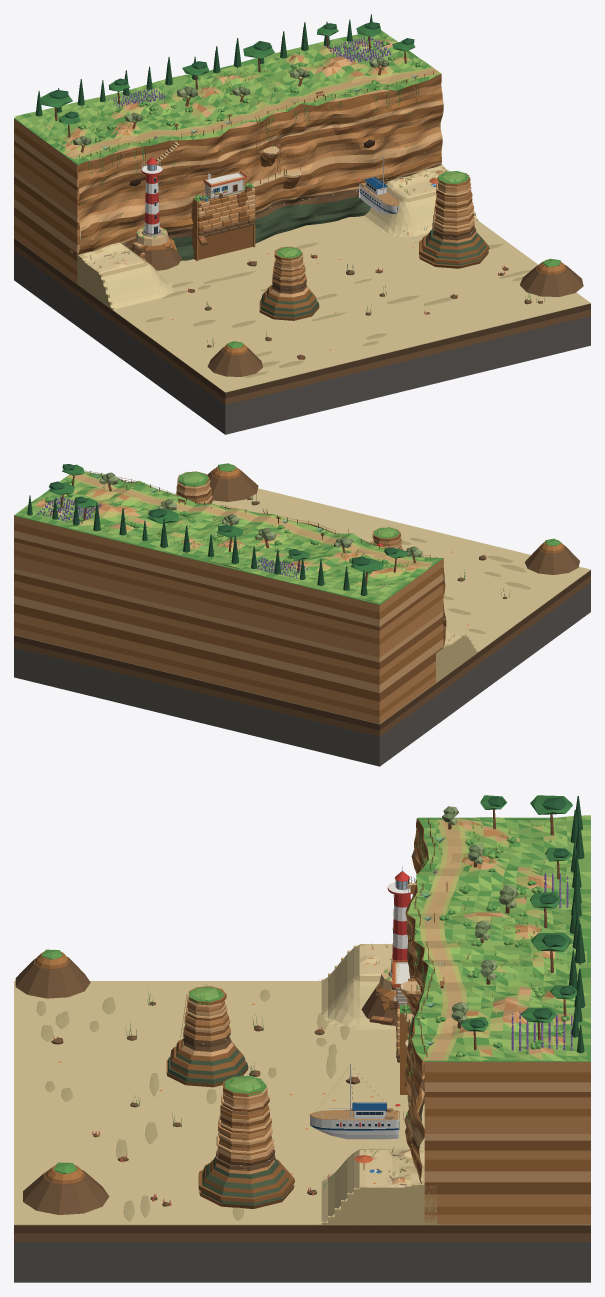
File: Loc_Cliffs.fbx
3 renders of one model, top to bottom at view 1: azimuth 30°, elevation 25°; view 2: azimuth 150°, elevation 25°; view 3: azimuth 270°, elevation 25°, orthographic. The views are drawn at different scales.
Parts seen in each view (by area): view 1: Seabed, RockA, BlockRock, RockC, RockB, RockPale, Grass, RockWet, GrassDark, GrassLight, RockWetDark, Earth (+17 smaller); view 2: RockA, BlockRock, Seabed, RockB, RockPale, RockC, Grass, GrassDark, GrassLight, Earth, Soil, GrassDry (+12 smaller); view 3: Seabed, BlockRock, RockA, Grass, RockC, RockB, RockPale, GrassDark, GrassLight, RockWet, GrassDry, Earth (+17 smaller).
Part boxes in pixels (x1,y1,x2,y2): Seabed: (14, 191, 590, 392); RockA: (14, 39, 476, 285); BlockRock: (14, 251, 590, 434); RockC: (14, 74, 566, 355); RockB: (14, 78, 564, 352); RockPale: (14, 39, 475, 297); Grass: (19, 30, 464, 256); RockWet: (122, 164, 583, 376); GrassDark: (14, 32, 560, 348); GrassLight: (14, 34, 465, 256); RockWetDark: (171, 196, 488, 317); Earth: (14, 244, 590, 404); RockA: (14, 482, 446, 723); BlockRock: (14, 582, 590, 766); Seabed: (14, 488, 590, 724); RockB: (14, 464, 563, 716); RockPale: (14, 478, 446, 692); RockC: (14, 470, 565, 701); Grass: (14, 472, 437, 600); GrassDark: (14, 463, 560, 604); GrassLight: (23, 471, 429, 602); Earth: (14, 576, 590, 736); Soil: (14, 570, 590, 730); GrassDry: (33, 474, 454, 640); Seabed: (14, 948, 590, 1225); BlockRock: (14, 1242, 590, 1282); RockA: (184, 820, 590, 1224); Grass: (193, 816, 590, 1091); RockC: (35, 818, 590, 1208); RockB: (37, 830, 590, 1214); RockPale: (181, 820, 590, 1184); GrassDark: (41, 817, 590, 1173); GrassLight: (192, 815, 590, 1145); RockWet: (15, 957, 424, 1214); GrassDry: (363, 818, 573, 1179); Earth: (14, 1233, 590, 1241).
Size of the model in its own units: 91.84 by 44.99 by 90.01.
